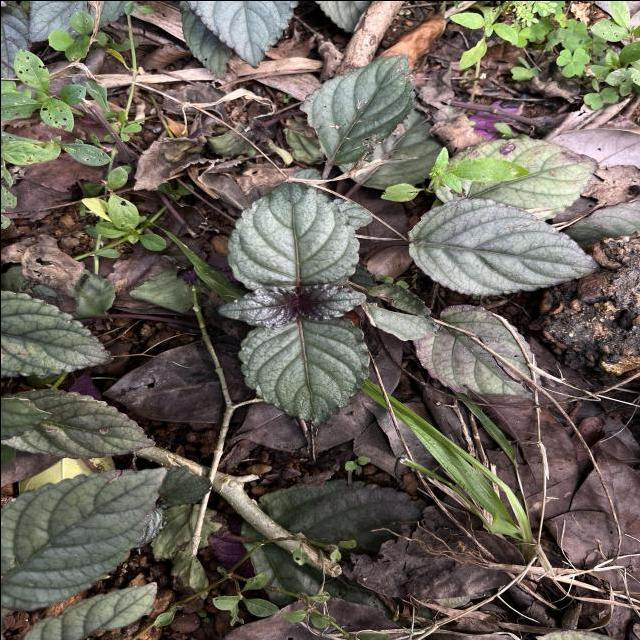Hemigraphis colorata: (0, 464, 167, 614), (406, 195, 602, 297), (235, 314, 372, 430), (224, 179, 360, 289), (296, 51, 416, 166), (0, 386, 158, 460), (0, 287, 115, 378), (183, 0, 302, 69), (213, 284, 295, 328), (298, 282, 368, 322)
